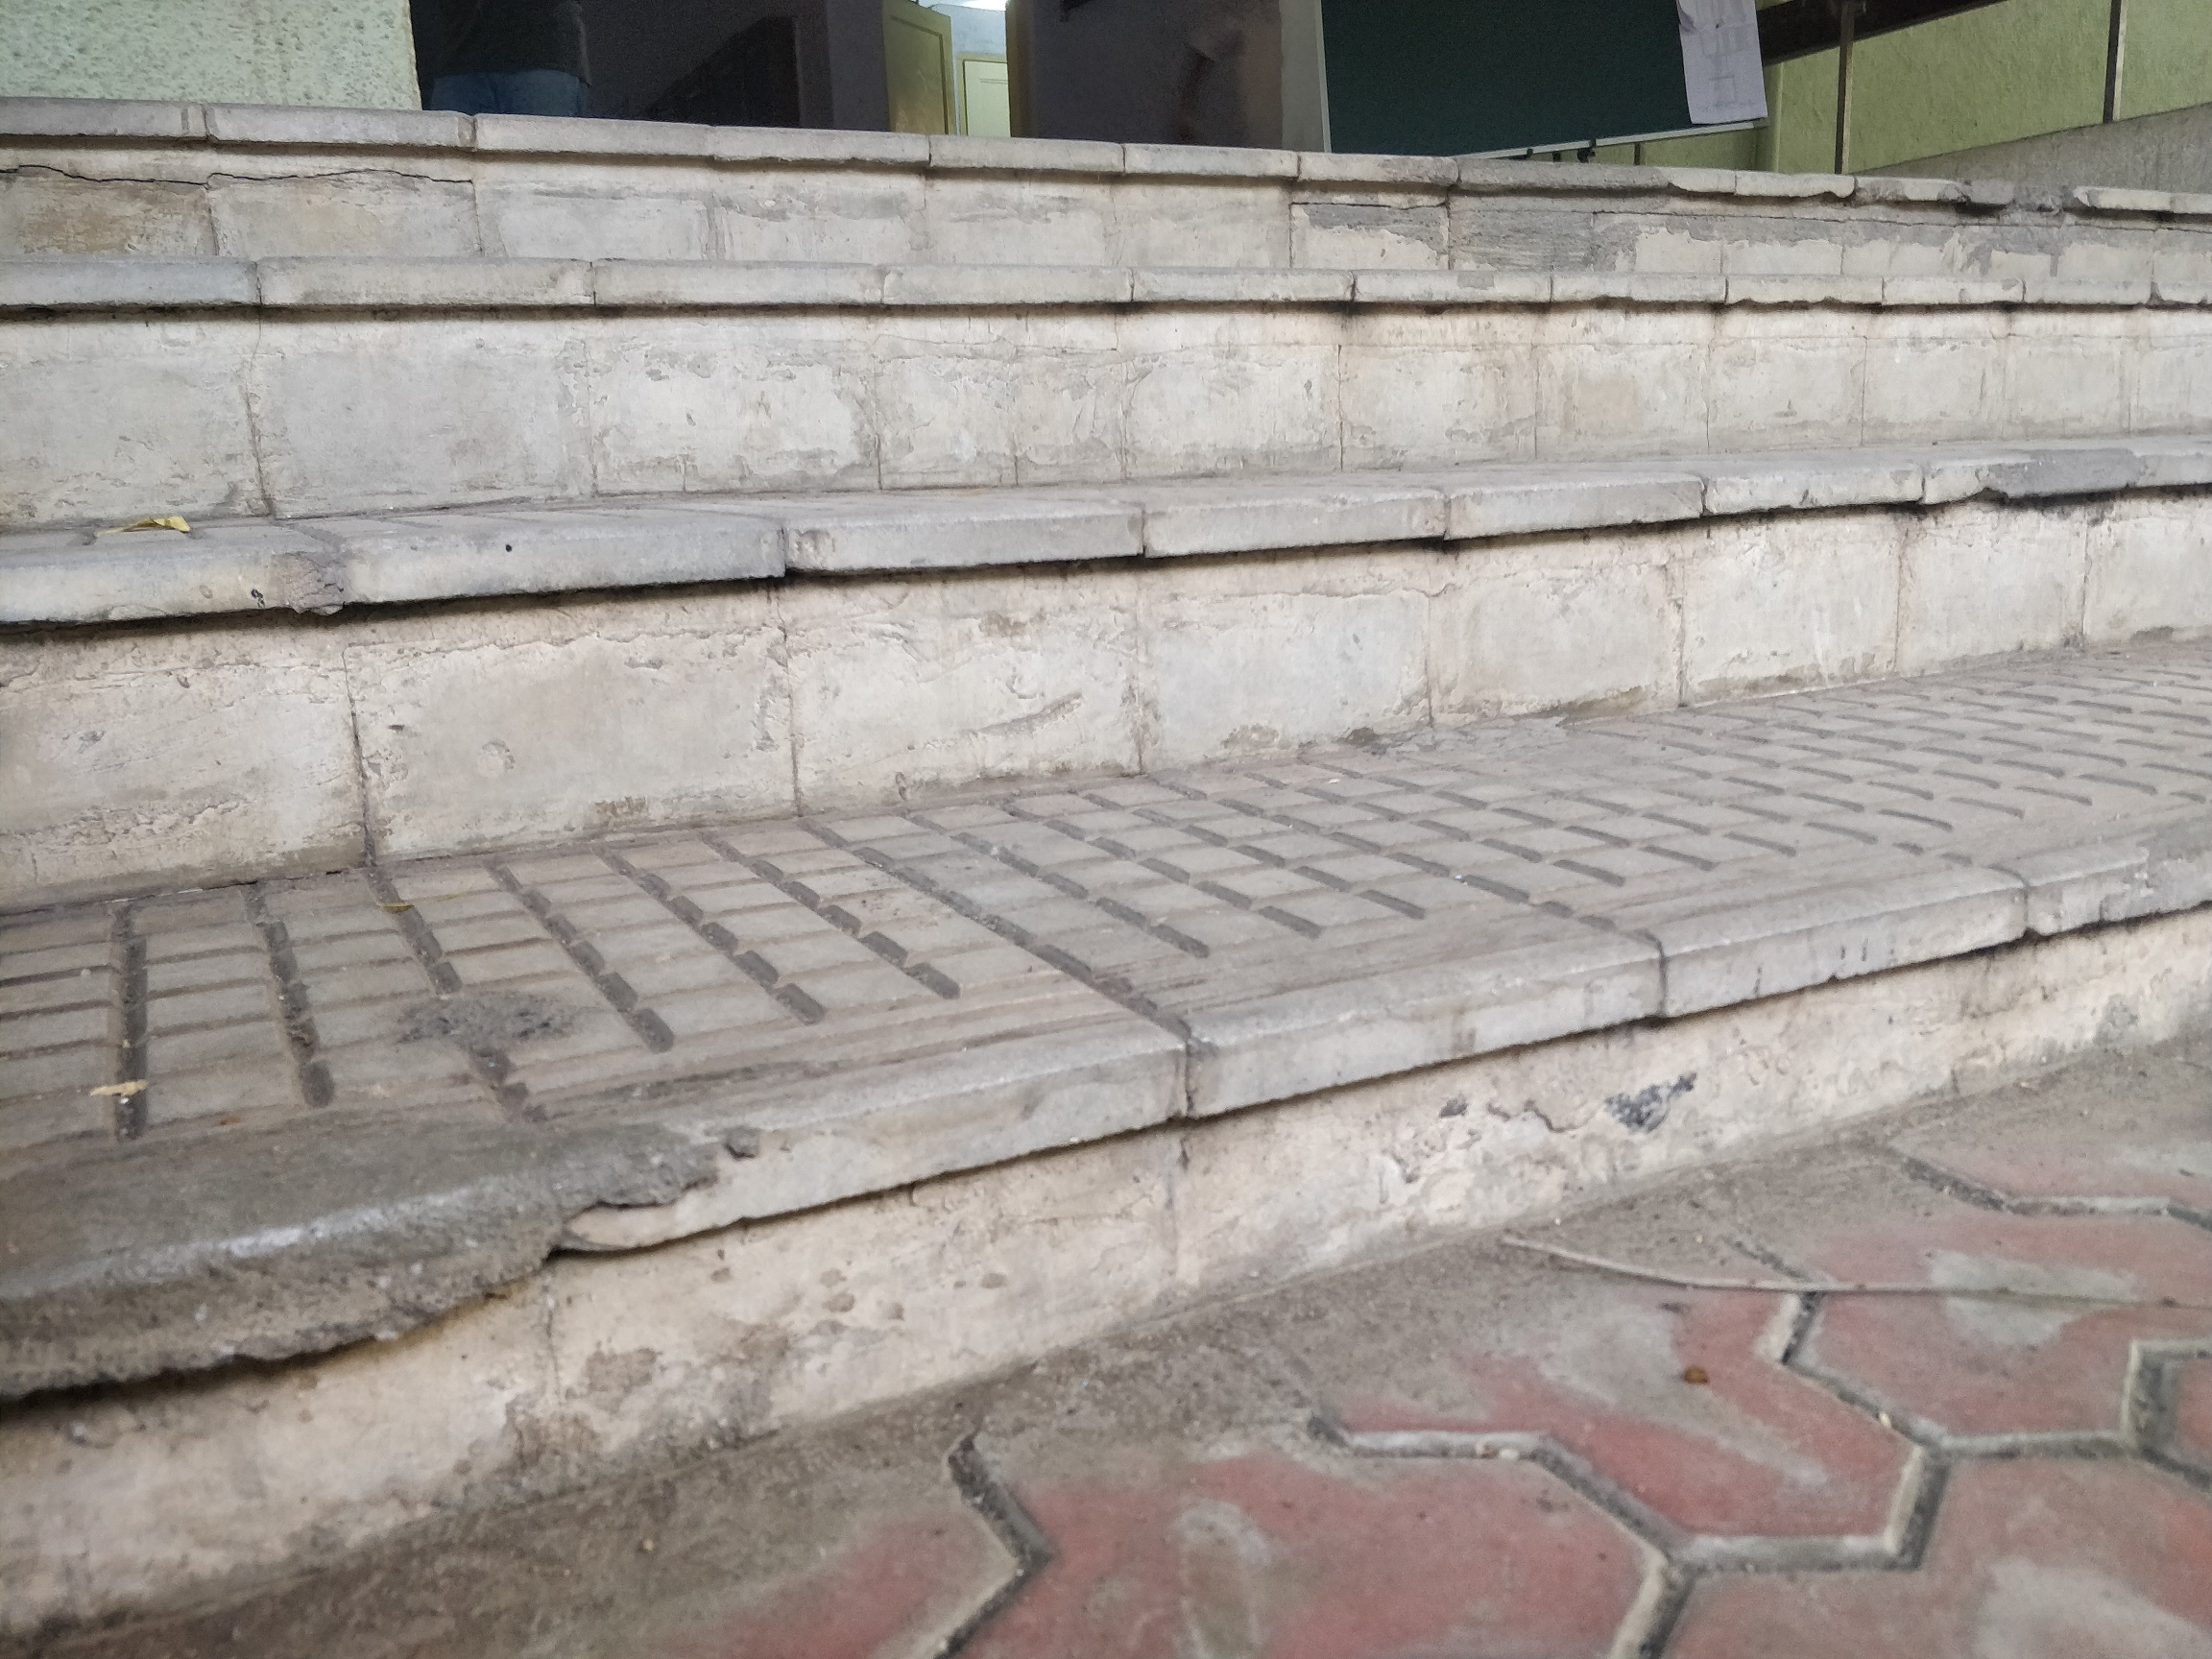stairs_up: (2, 105, 2209, 1093)
